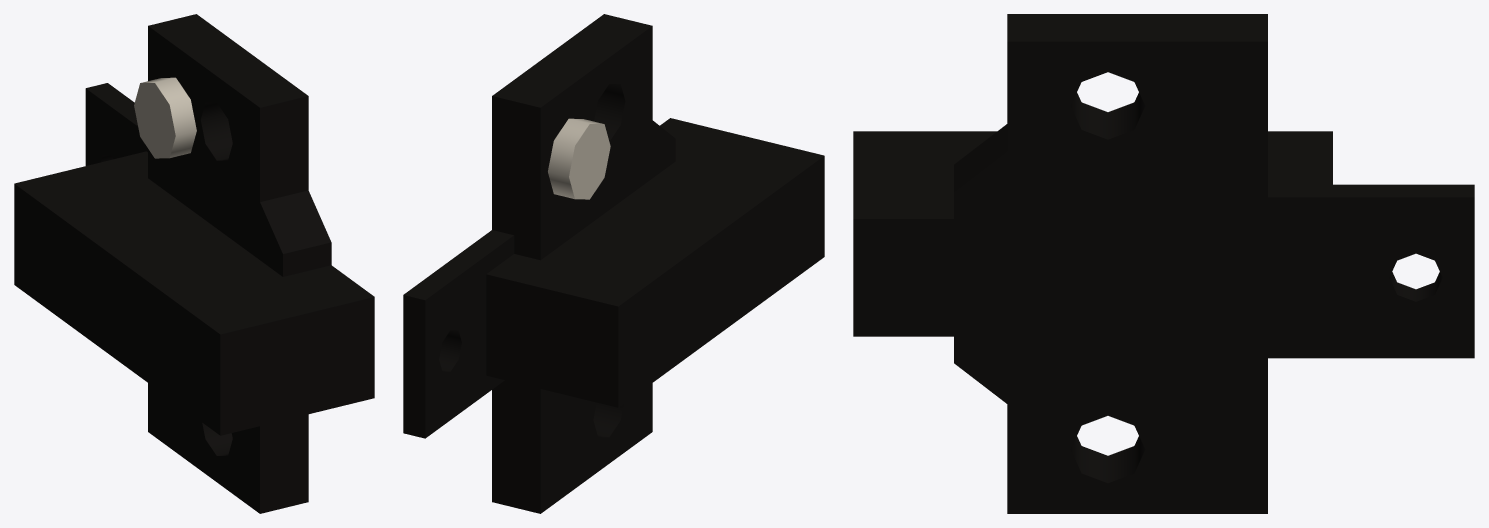
3 views of the same model, side by side, from view 1: azimuth 30°, elevation 25°; view 2: azimuth 150°, elevation 25°; view 3: azimuth 270°, elevation 25° (orthographic). The views are drawn at different scales.
Parts seen in each view (by area): view 1: bau0006173238; view 2: bau0006173238; view 3: bau0006173238.
Part boxes in pixels (box(x1,y1,x2,y2)): bau0006173238: box(14, 14, 374, 513); bau0006173238: box(403, 14, 824, 513); bau0006173238: box(853, 14, 1474, 513).
Bounding box in the file's own units: 17.5 × 44 × 52.45.
